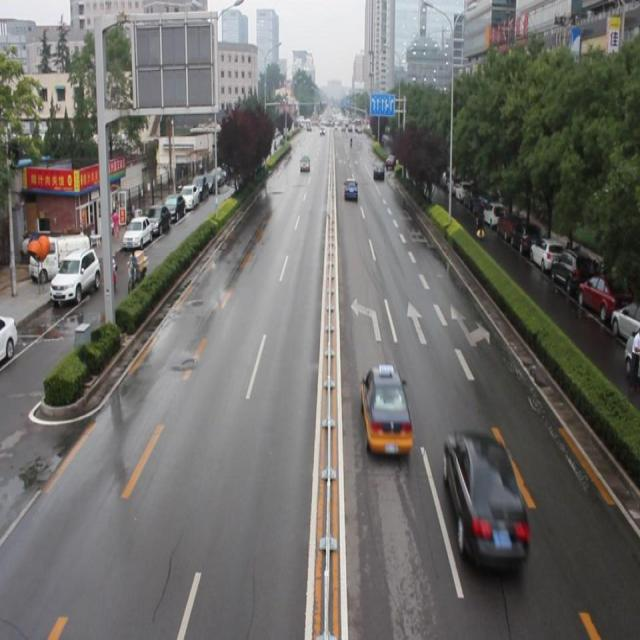car: (441, 432, 530, 574), (359, 362, 412, 456), (342, 178, 357, 201), (371, 162, 384, 180)
